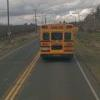Bus: (36, 20, 77, 60)
